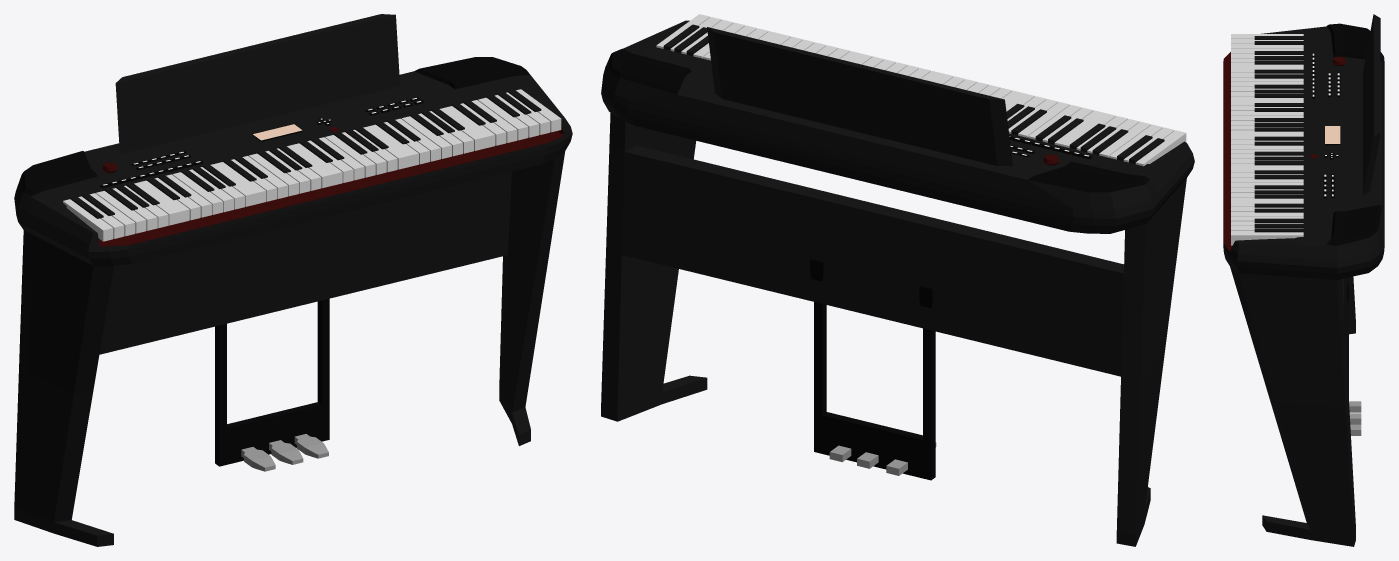
File: Piano7.fbx
3 views of the same model, side by side, from view 1: azimuth 30°, elevation 25°; view 2: azimuth 150°, elevation 25°; view 3: azimuth 270°, elevation 25° (orthographic). The views are drawn at different scales.
Visible parts, largest first — view 1: Cube; view 2: Cube; view 3: Cube.
Part boxes in pixels (x1,y1,x2,y2): Cube: (14, 14, 572, 546); Cube: (601, 14, 1194, 546); Cube: (1223, 14, 1384, 546).
Size of the model in its own units: 149 by 111 by 44.73.
